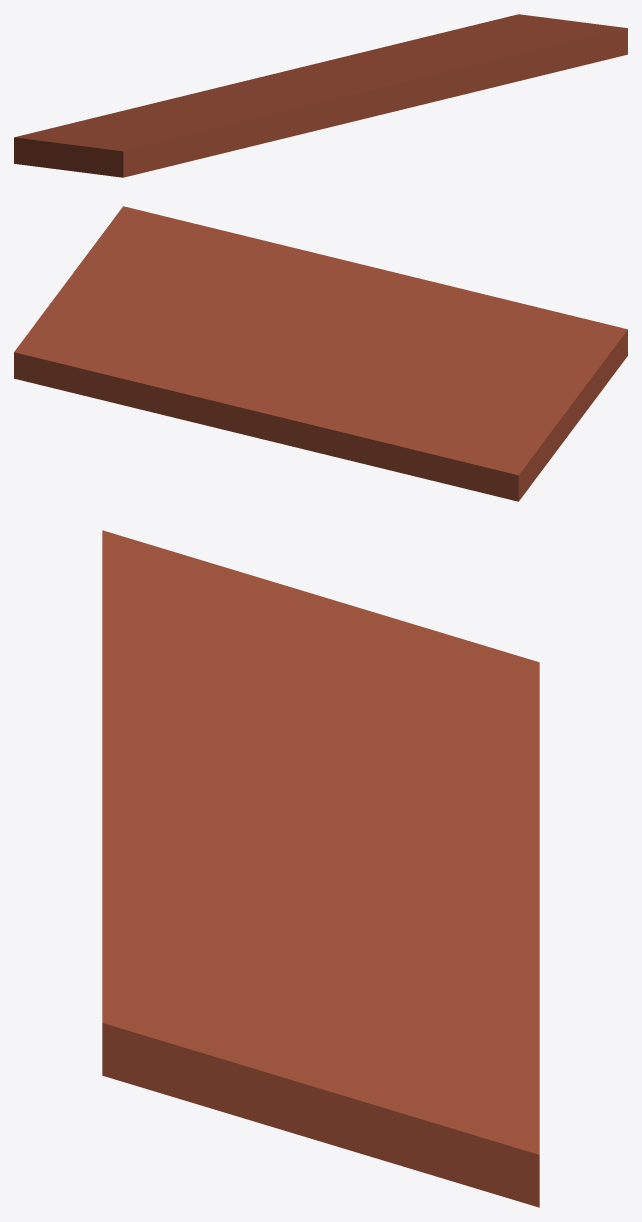
Rendered from canopy.glb.
3 views of the same model, one above another, from view 1: azimuth 30°, elevation 25°; view 2: azimuth 150°, elevation 25°; view 3: azimuth 270°, elevation 25° (orthographic). The views are drawn at different scales.
Visible parts, largest first — view 1: Alfa_canopy; view 2: Alfa_canopy; view 3: Alfa_canopy.
Boxes of the visible parts, x1,y1,x2,y2 form: Alfa_canopy: (14,14,627,177); Alfa_canopy: (14,206,627,501); Alfa_canopy: (102,530,539,1207).
Size of the model in its own units: 1.6 by 0.28 by 0.6.
